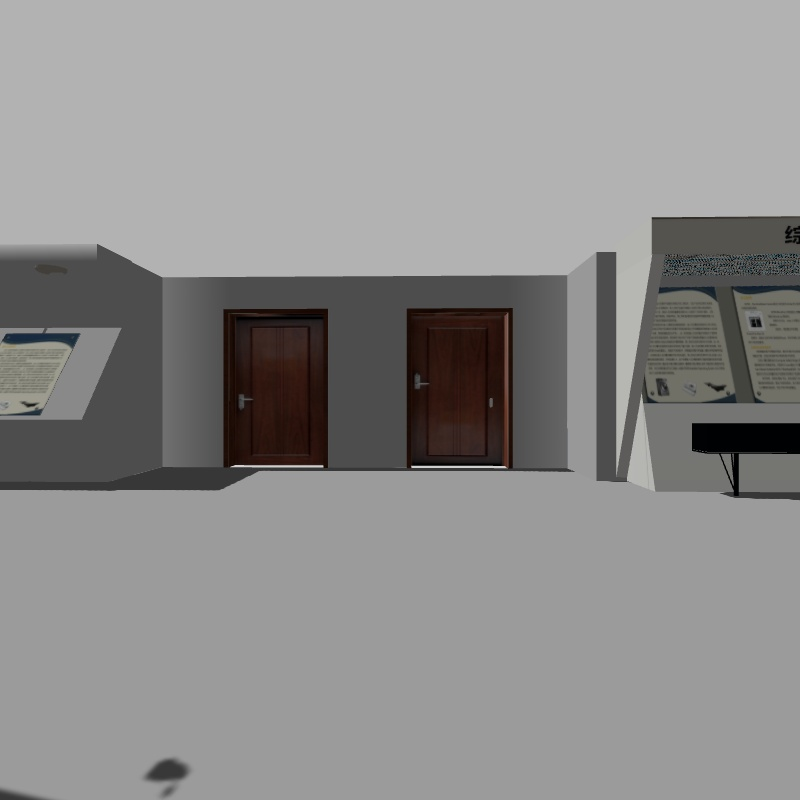handle: (406, 368, 434, 395), (228, 388, 254, 410)
